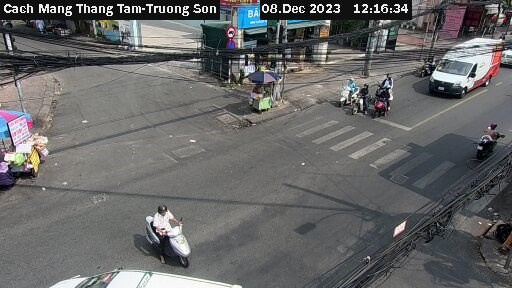car: (49, 263, 245, 288), (432, 37, 504, 94)
motorbike: (134, 204, 202, 268), (469, 118, 504, 164), (333, 81, 359, 108), (366, 92, 390, 118)
